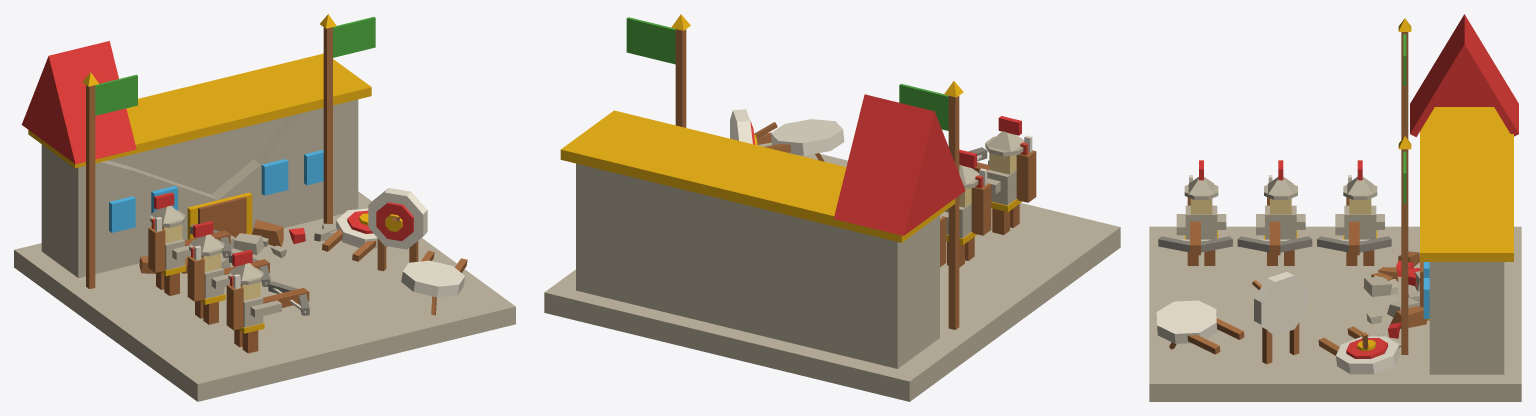
The model's file is archery_range_t3_v1_dmg1.glb.
3 renders of one model, left to right at view 1: azimuth 30°, elevation 25°; view 2: azimuth 150°, elevation 25°; view 3: azimuth 270°, elevation 25°, orthographic. The views are drawn at different scales.
Visible parts, largest first — view 1: archery_range_t3_v1_dmg1; view 2: archery_range_t3_v1_dmg1; view 3: archery_range_t3_v1_dmg1.
Part boxes in pixels (x1=…): archery_range_t3_v1_dmg1: x1=14, y1=14, x2=515, y2=401; archery_range_t3_v1_dmg1: x1=544, y1=14, x2=1120, y2=401; archery_range_t3_v1_dmg1: x1=1149, y1=14, x2=1521, y2=401.
Bounding box in the file's own units: 0.75 × 0.525 × 0.75.
Materials: 1 (1 with a texture image).
